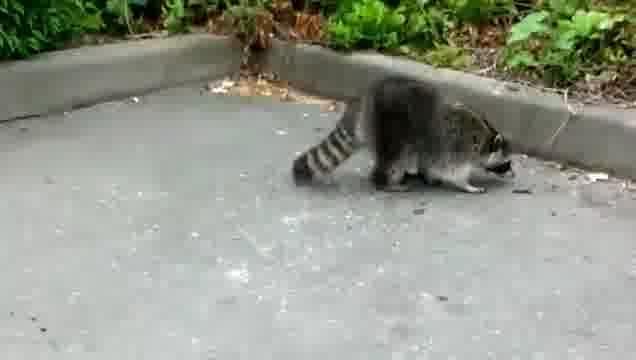raccoon: (291, 72, 518, 196)
